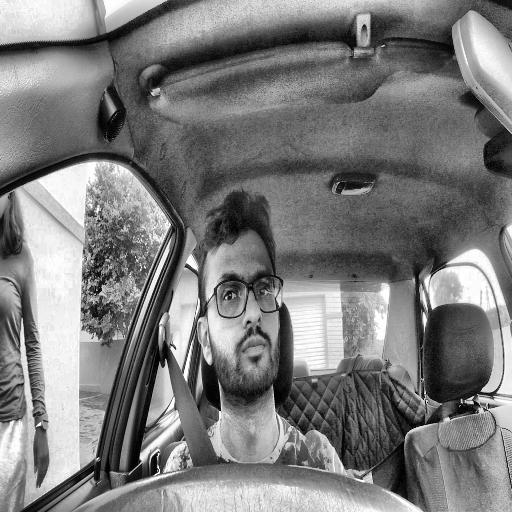awake: (197, 189, 284, 401)
